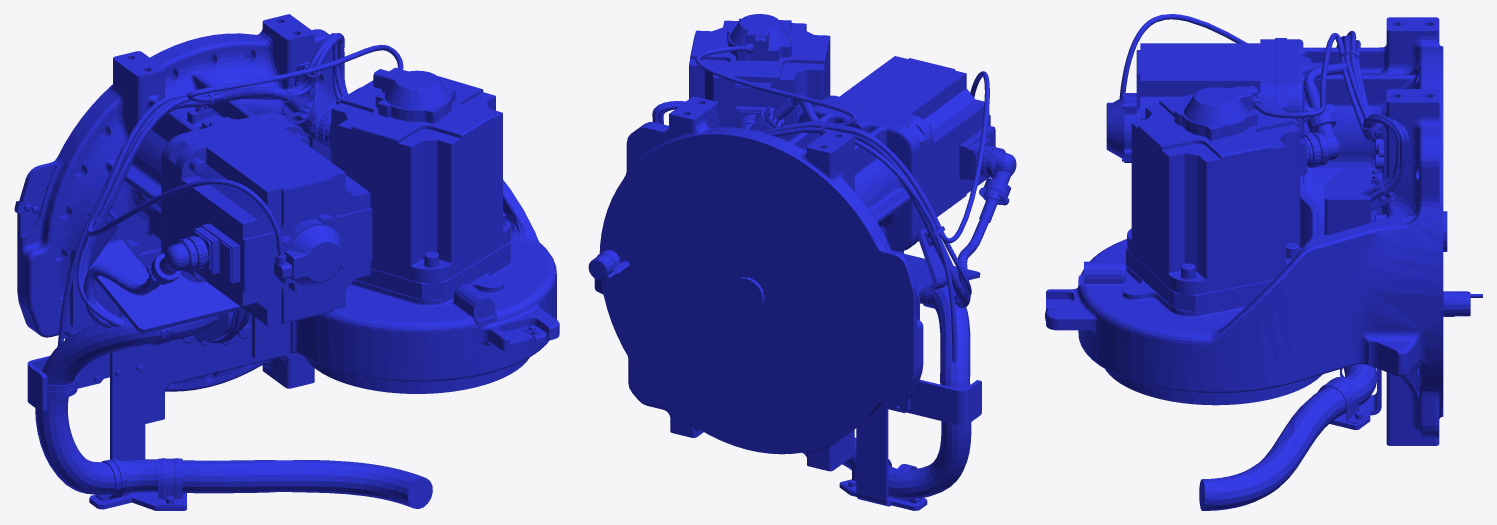
3 renders of one model, left to right at view 1: azimuth 30°, elevation 25°; view 2: azimuth 150°, elevation 25°; view 3: azimuth 270°, elevation 25°, orthographic. The views are drawn at different scales.
Parts seen in each view (by area): view 1: /Link1/Link1-mesh/0; view 2: /Link1/Link1-mesh/0; view 3: /Link1/Link1-mesh/0.
Boxes of the visible parts, bbox=[...] form: /Link1/Link1-mesh/0: bbox=[14, 14, 559, 510]; /Link1/Link1-mesh/0: bbox=[588, 14, 1016, 510]; /Link1/Link1-mesh/0: bbox=[1045, 14, 1482, 510].
Size of the model in its own units: 0.604 by 0.5683 by 0.5411.
